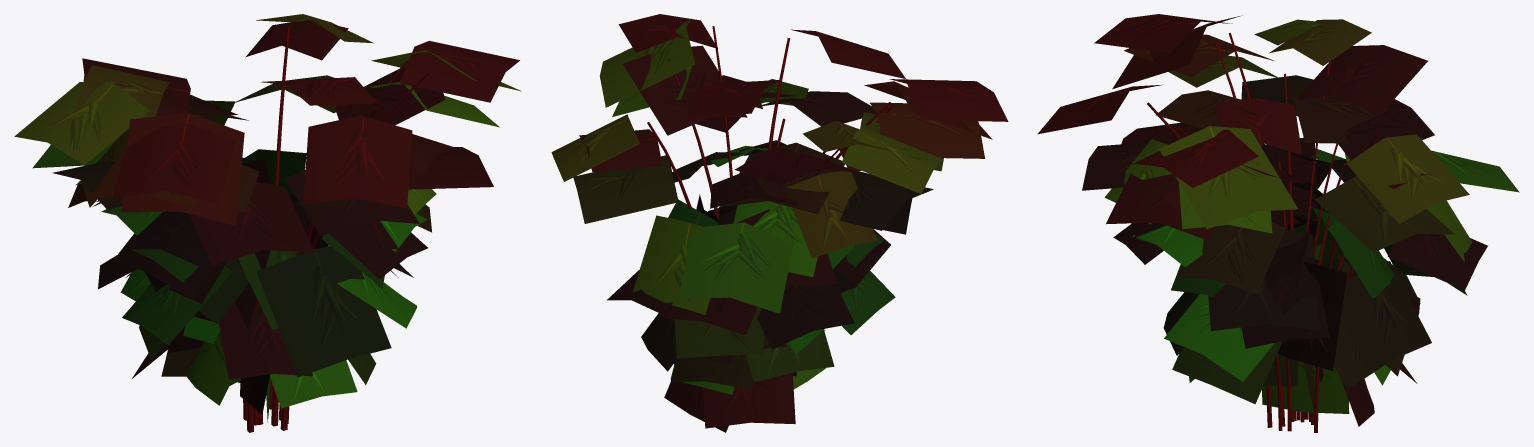
File: veg_bamboo1_far.glb
The picture shows the model from 3 angles, left to right: view 1: azimuth 30°, elevation 25°; view 2: azimuth 150°, elevation 25°; view 3: azimuth 270°, elevation 25°; orthographic projection. The views are drawn at different scales.
Visible parts, largest first — view 1: bamboo_1; view 2: bamboo_1; view 3: bamboo_1.
Boxes of the visible parts, <box> form: bamboo_1: <box>14,14,521,432</box>; bamboo_1: <box>551,14,1008,432</box>; bamboo_1: <box>1037,14,1519,432</box>.
Size of the model in its own units: 12.02 by 9.91 by 12.38.
Materials: 2 (1 with a texture image).
